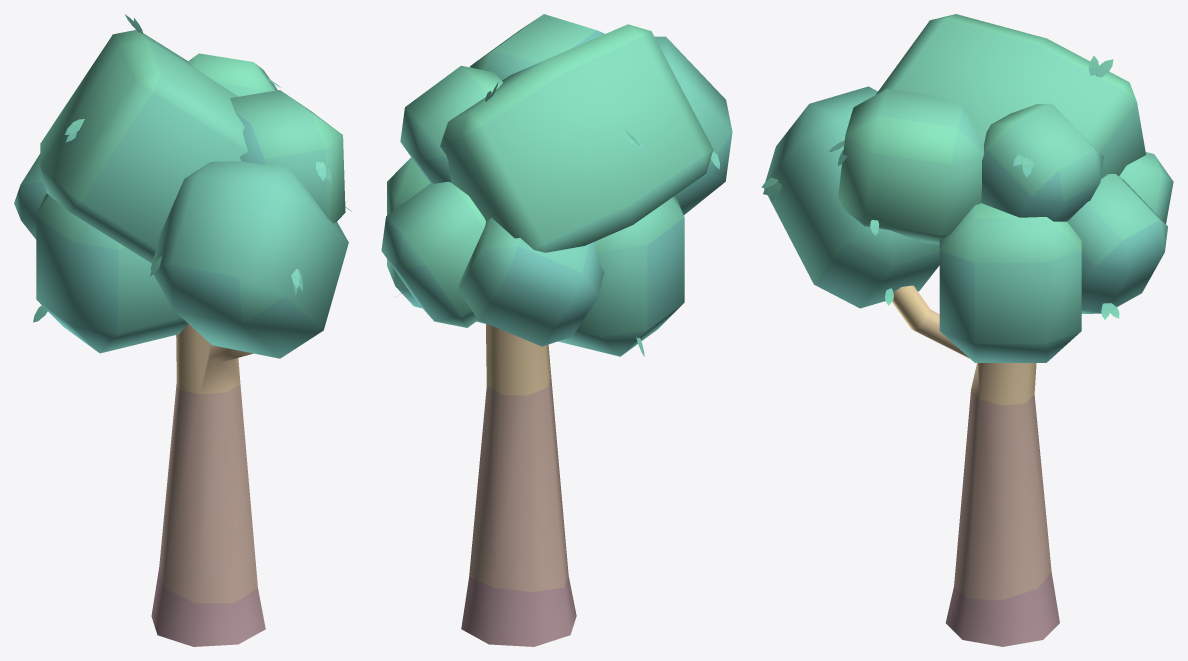
Rendered from tree.glb.
3 renders of one model, left to right at view 1: azimuth 30°, elevation 25°; view 2: azimuth 150°, elevation 25°; view 3: azimuth 270°, elevation 25°, orthographic. The views are drawn at different scales.
Parts seen in each view (by area): view 1: Tree.001; view 2: Tree.001; view 3: Tree.001.
Boxes of the visible parts, bbox=[...] form: Tree.001: bbox=[14, 14, 351, 646]; Tree.001: bbox=[381, 14, 732, 646]; Tree.001: bbox=[761, 14, 1173, 646].
Size of the model in its own units: 2.29 by 4.74 by 3.12.
